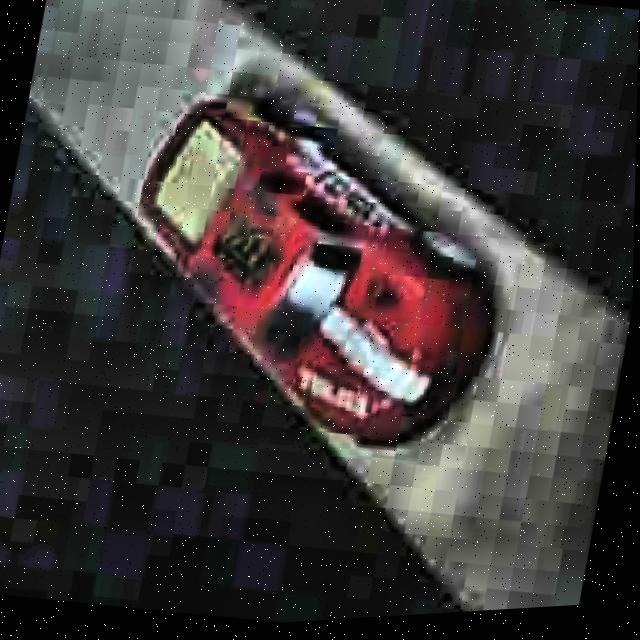car: (96, 63, 538, 481)
